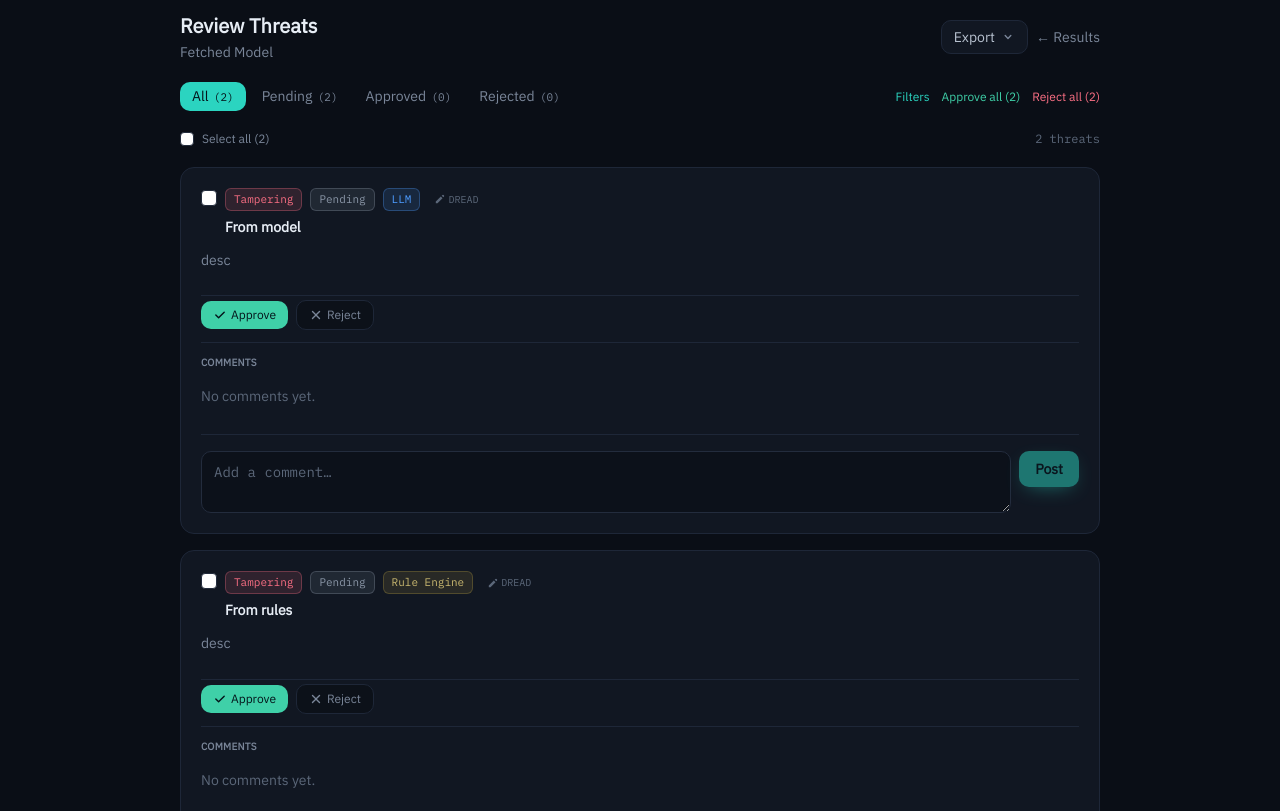
Test: Review — source filter › filters to rule-engine threats
Expected: the heading "From model" is shown, [225,218,301,236]
Click the button "Filters" at (913, 96), box [896,88,930,104]
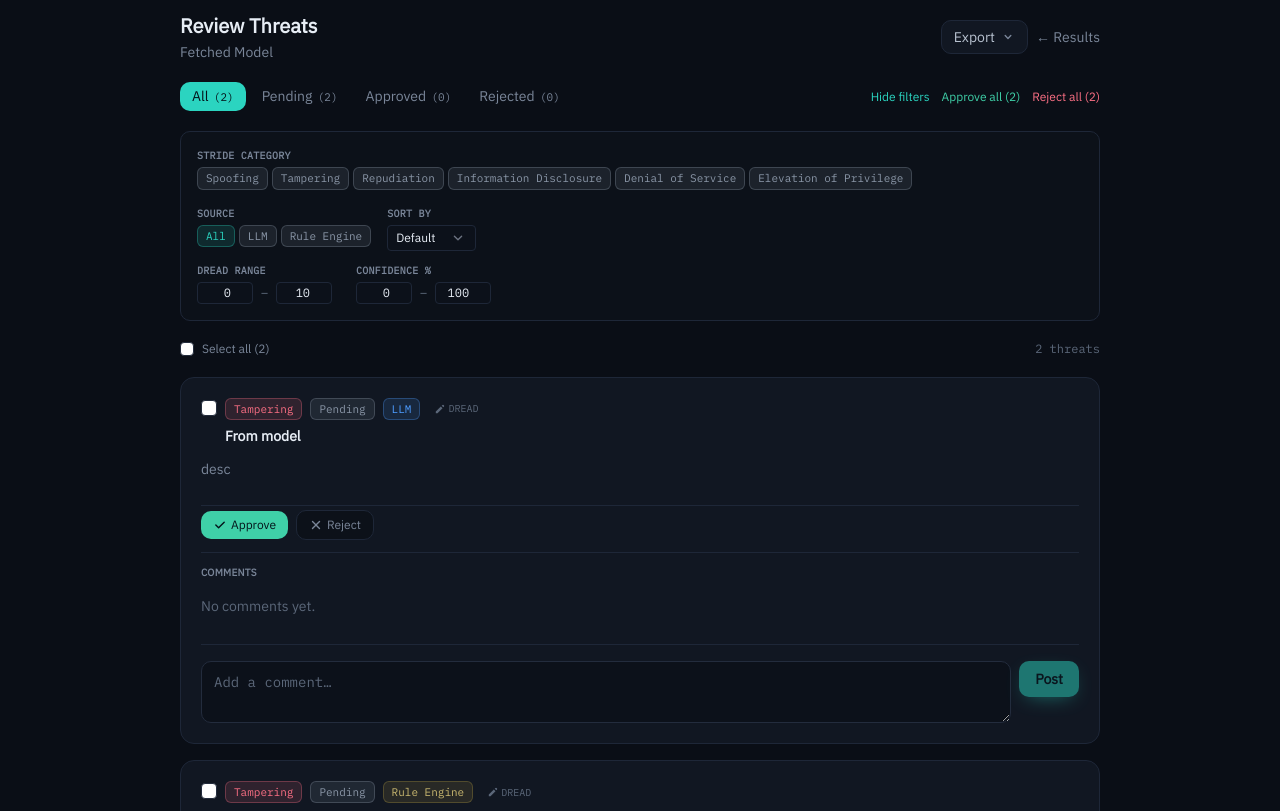
Click the button "Rule Engine" at (326, 236), box [281,224,371,247]
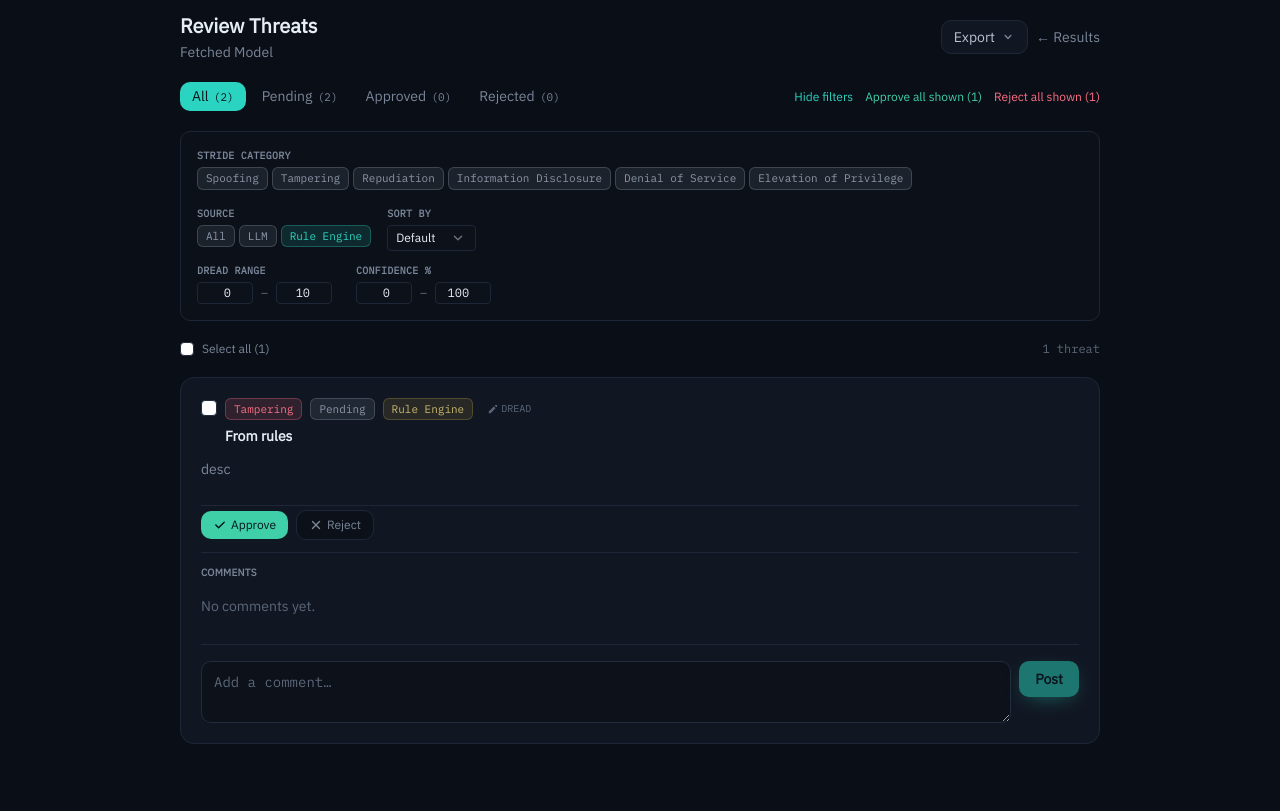
Expected: the heading "From rules" is shown, [225,427,292,445]
Now the heading "From model" is gone
